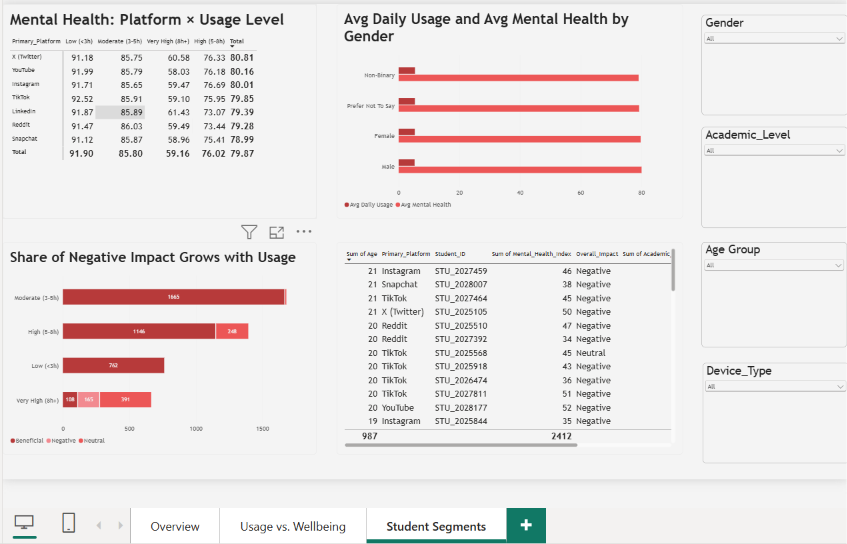

What the dashboard file says about the page in this screenshot:
{"tool":"powerbi","page":{"name":"Student Segments","canvas":[1919,1080],"ordinal":2},"visuals":[{"type":"pivotTable","title":"Mental Health: Platform × Usage Level","fields":{"Columns":["Students.Usage Band"],"Rows":["Students.Primary_Platform"],"Values":["Students.Avg Mental Health"]},"box":[0,0,712.5,487.6],"z":0},{"type":"barChart","title":"Share of Negative Impact Grows with Usage","fields":{"Category":["Students.Usage Band"],"Series":["Students.Overall_Impact"],"Y":["Students.Total Students"]},"box":[0,539.7,712.5,482.9],"z":1000},{"type":"clusteredBarChart","fields":{"Category":["Students.Gender"],"Y":["Students.Avg Daily Usage","Students.Avg Mental Health"]},"box":[757.5,0,785.9,487.6],"z":2000},{"type":"tableEx","fields":{"Values":["Sum(Students.Age)","Students.Primary_Platform","Students.Student_ID","Sum(Students.Mental_Health_Index)","Students.Overall_Impact","Sum(Students.Academic_Performance_GPA)","Sum(Students.Daily_Usage_Hours)"]},"box":[757.5,539.7,785.9,482.9],"z":3000},{"type":"slicer","fields":{"Values":["Students.Gender"]},"box":[1586,26,331.4,227.3],"z":3001},{"type":"slicer","fields":{"Values":["Students.Academic_Level"]},"box":[1586,279.3,331.4,229.6],"z":3002},{"type":"slicer","fields":{"Values":["Students.Age Group"]},"box":[1586,539.7,329,239.1],"z":3003},{"type":"slicer","fields":{"Values":["Students.Device_Type"]},"box":[1588.4,814.3,331.4,227.3],"z":3004}]}

Visuals, with their boxes on the page's 1919x1080 design canvas (x1, y1, x2, y2). These are canvas units, not pixel positions in the 847x544 screenshot, which may show the page scaled, cropped or inside an application window:
"Mental Health: Platform × Usage Level" pivotTable: (x1=0, y1=0, x2=712, y2=488)
"Share of Negative Impact Grows with Usage" barChart: (x1=0, y1=540, x2=712, y2=1023)
clusteredBarChart - Students.Gender x Students.Avg Daily Usage: (x1=758, y1=0, x2=1543, y2=488)
tableEx - Sum(Students.Age) x Students.Primary_Platform: (x1=758, y1=540, x2=1543, y2=1023)
slicer - Students.Gender: (x1=1586, y1=26, x2=1917, y2=253)
slicer - Students.Academic_Level: (x1=1586, y1=279, x2=1917, y2=509)
slicer - Students.Age Group: (x1=1586, y1=540, x2=1915, y2=779)
slicer - Students.Device_Type: (x1=1588, y1=814, x2=1920, y2=1042)
